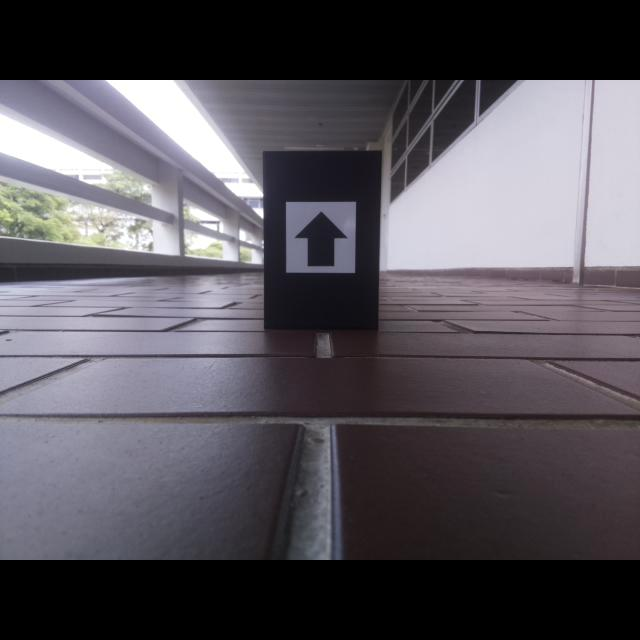UP: (294, 211, 349, 267)
